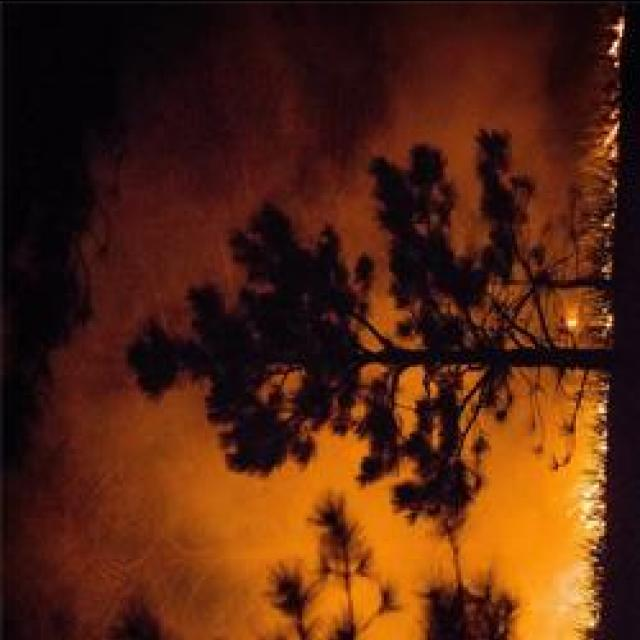fire: (568, 402, 612, 546), (586, 89, 622, 177)
